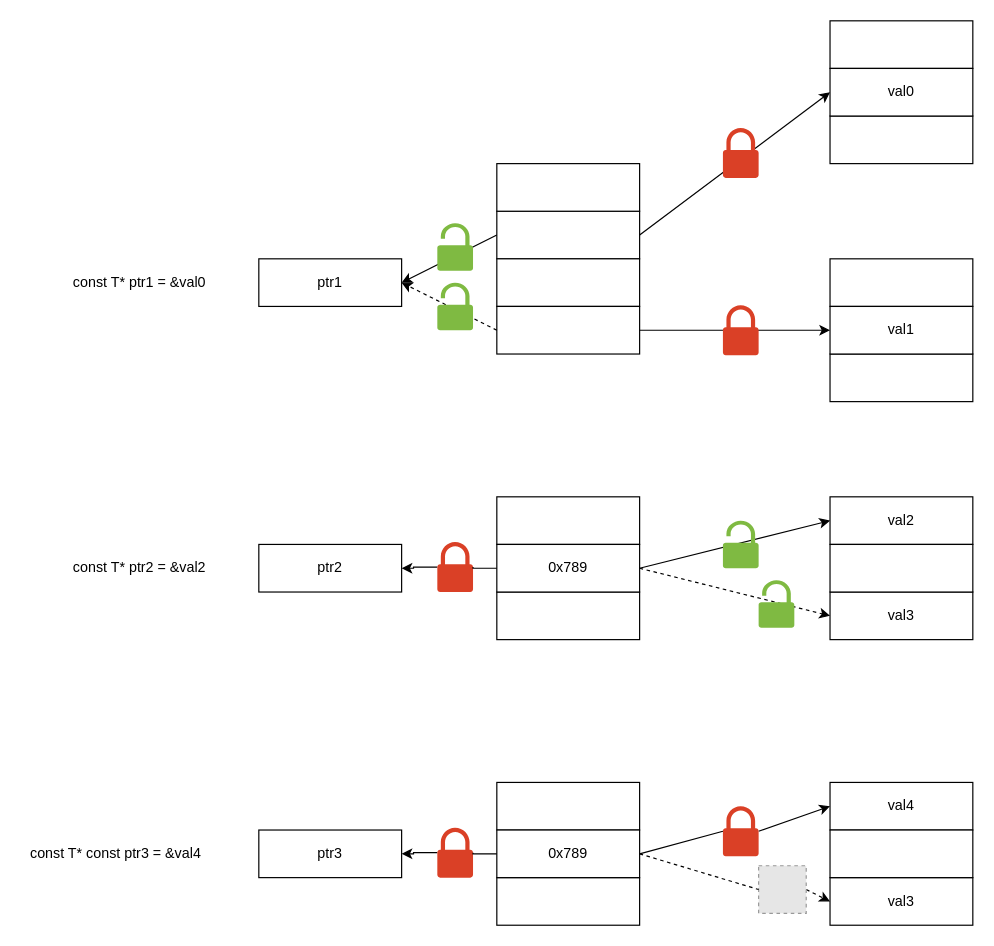
This 994x946 diagram has some shape labels left out. Grey dashed boxes stand in for pictures. The shapes that lost their labels are listed below. From the top down, each one's centre as x and y in pixels, then its label:
point 568,234: 0x123
point 568,329: 0x456
